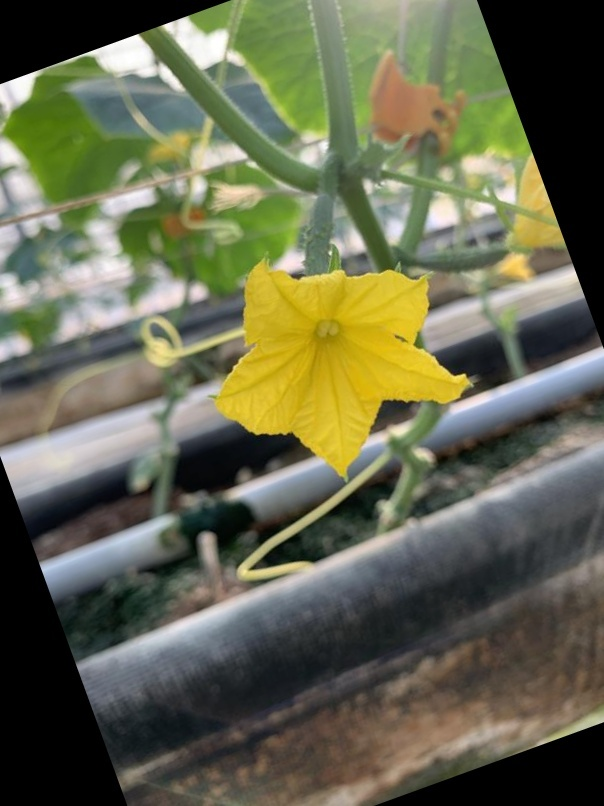flowering: (152, 173, 472, 474)
mature: (151, 171, 471, 475)
